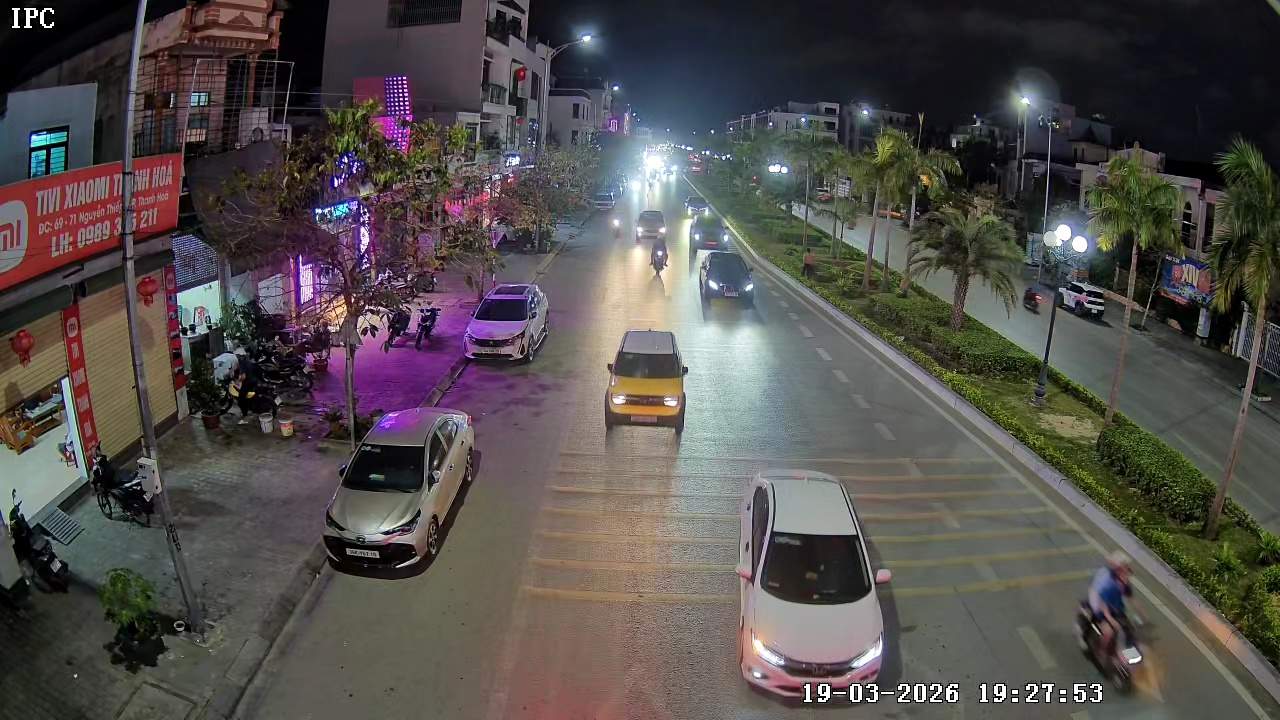car: (733, 470, 903, 706), (322, 405, 482, 576), (602, 327, 691, 434), (464, 281, 552, 364), (697, 248, 757, 315), (687, 214, 725, 252), (633, 206, 668, 240)
motorbike: (1073, 552, 1148, 697), (650, 232, 670, 278), (608, 209, 623, 236)
